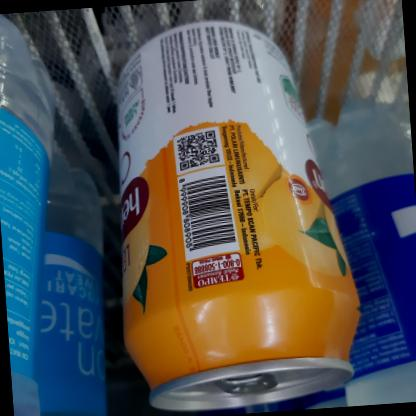alumunium_can: (93, 0, 370, 416)
